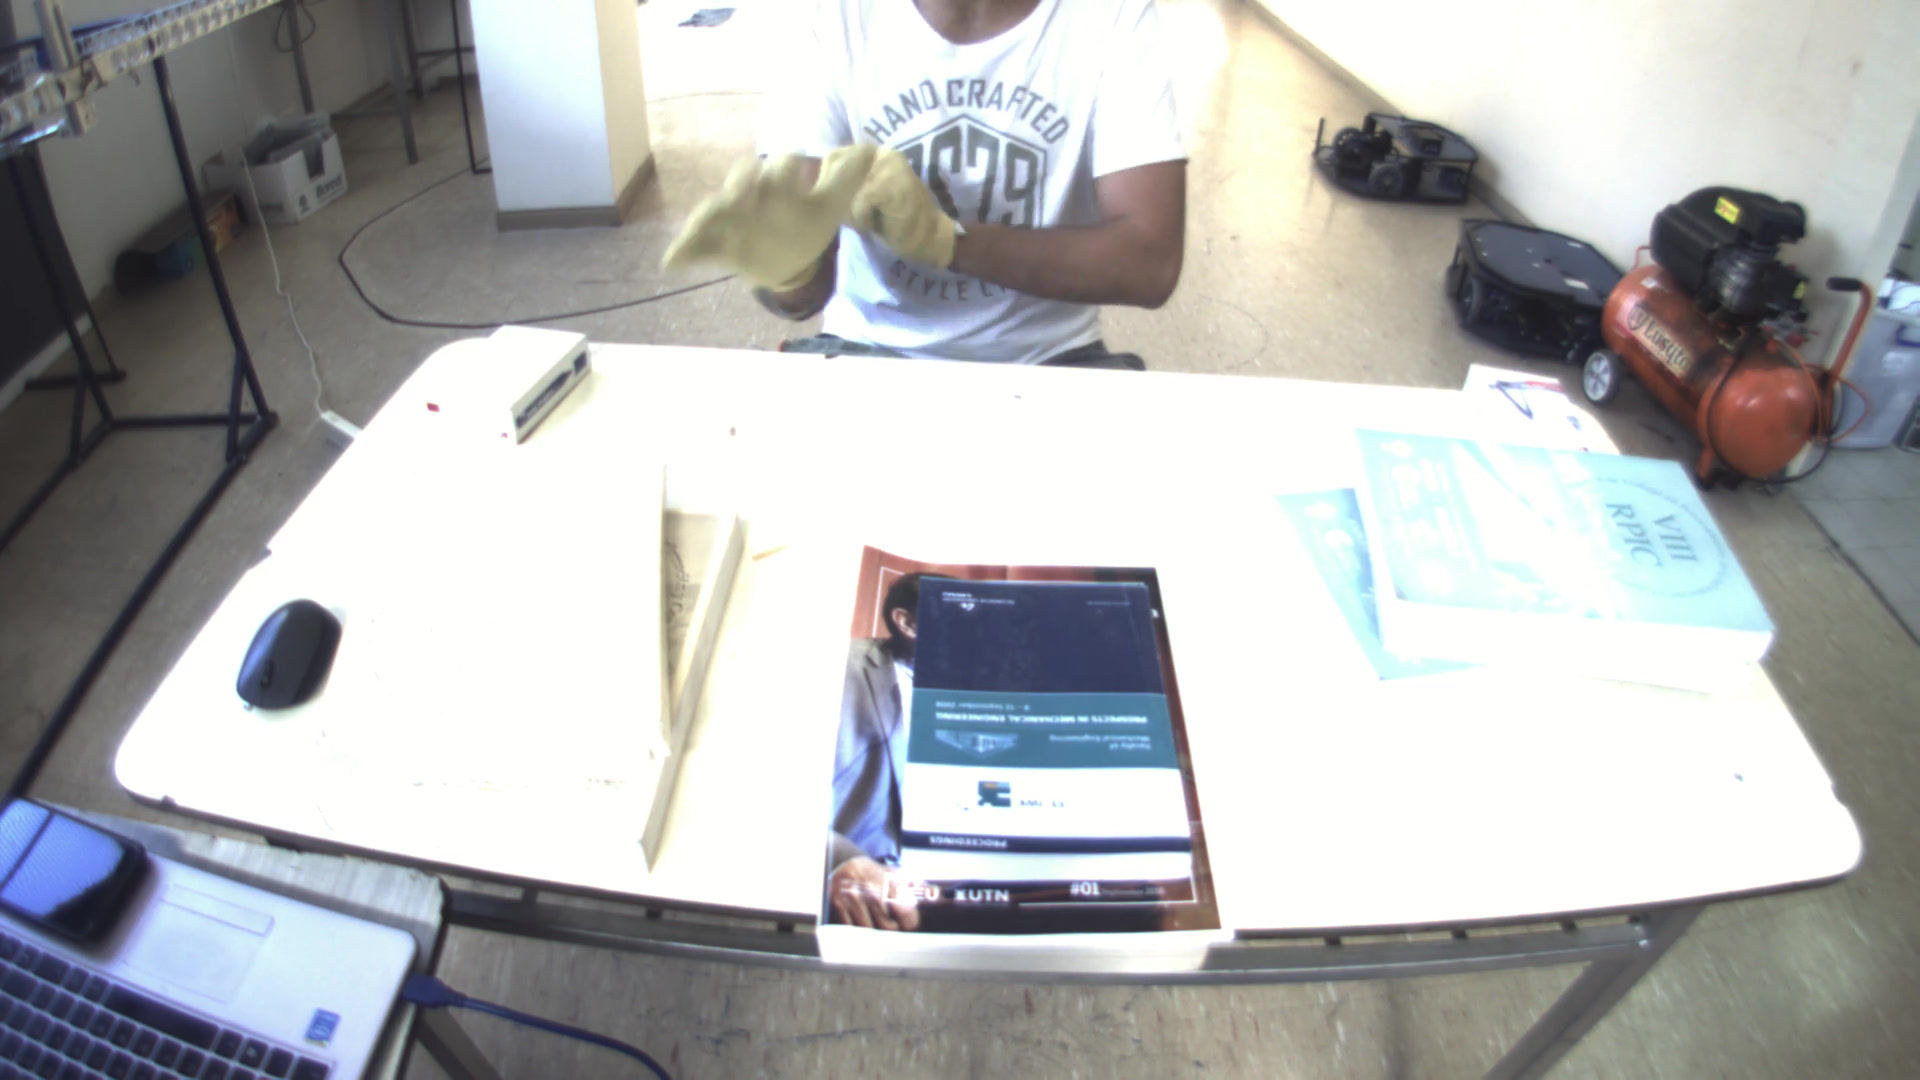hand: (646, 128, 853, 311), (835, 137, 961, 285)
